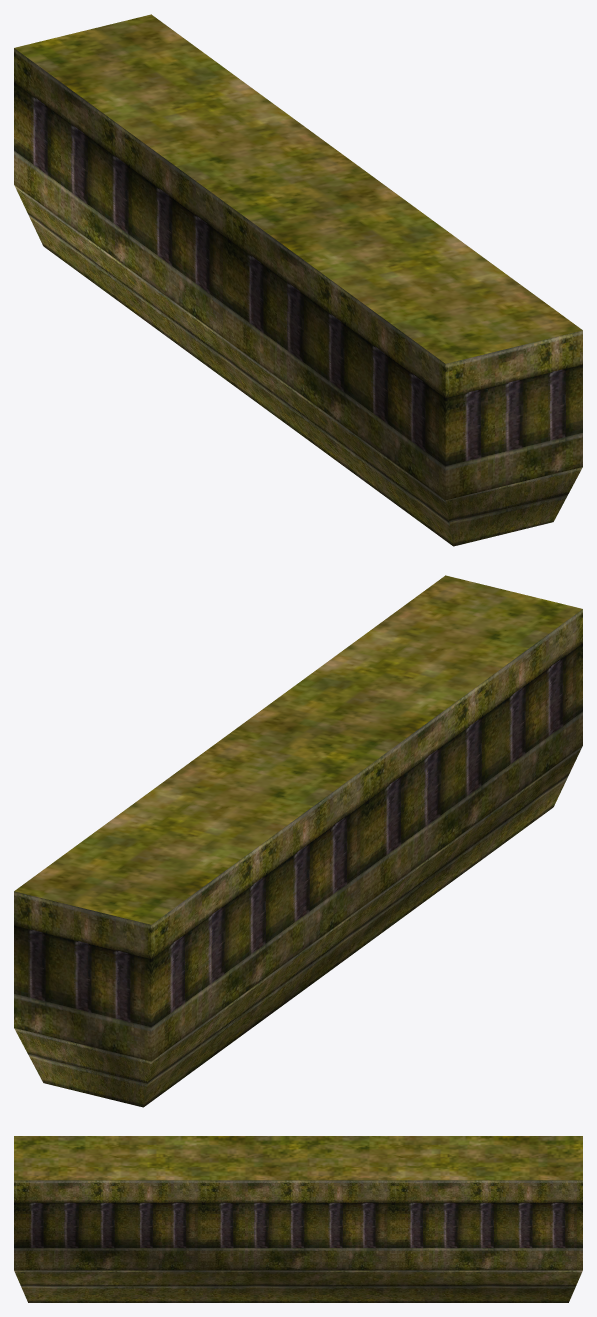
File: OVERHILL_A_01_OBJECT130.fbx
3 views of the same model, one above another, from view 1: azimuth 30°, elevation 25°; view 2: azimuth 150°, elevation 25°; view 3: azimuth 270°, elevation 25° (orthographic). The views are drawn at different scales.
Parts seen in each view (by area): view 1: OVERHILL_A_01_OBJECT130; view 2: OVERHILL_A_01_OBJECT130; view 3: OVERHILL_A_01_OBJECT130.
Boxes of the visible parts, box(x1,y1,x2,y2) form: OVERHILL_A_01_OBJECT130: box(14, 14, 582, 546); OVERHILL_A_01_OBJECT130: box(14, 575, 582, 1107); OVERHILL_A_01_OBJECT130: box(14, 1136, 582, 1302).
Size of the model in its own units: 11083 by 15038 by 60283.
3 materials, 3 textured.
